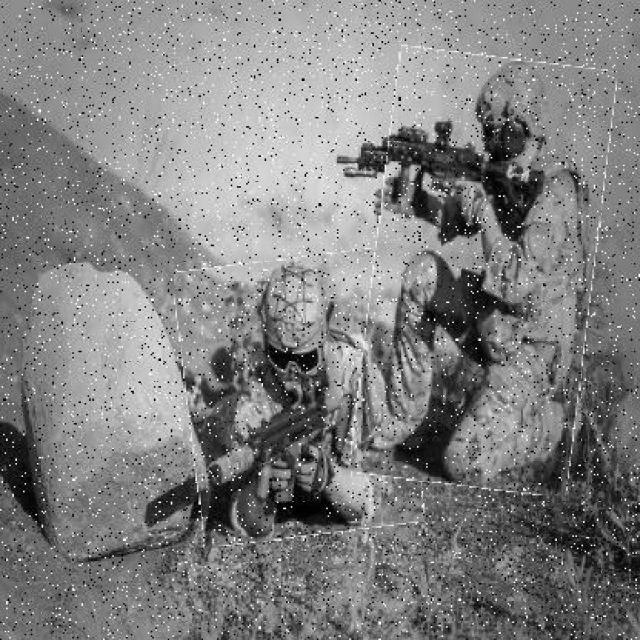Person: (363, 52, 606, 493), (181, 254, 418, 543)
